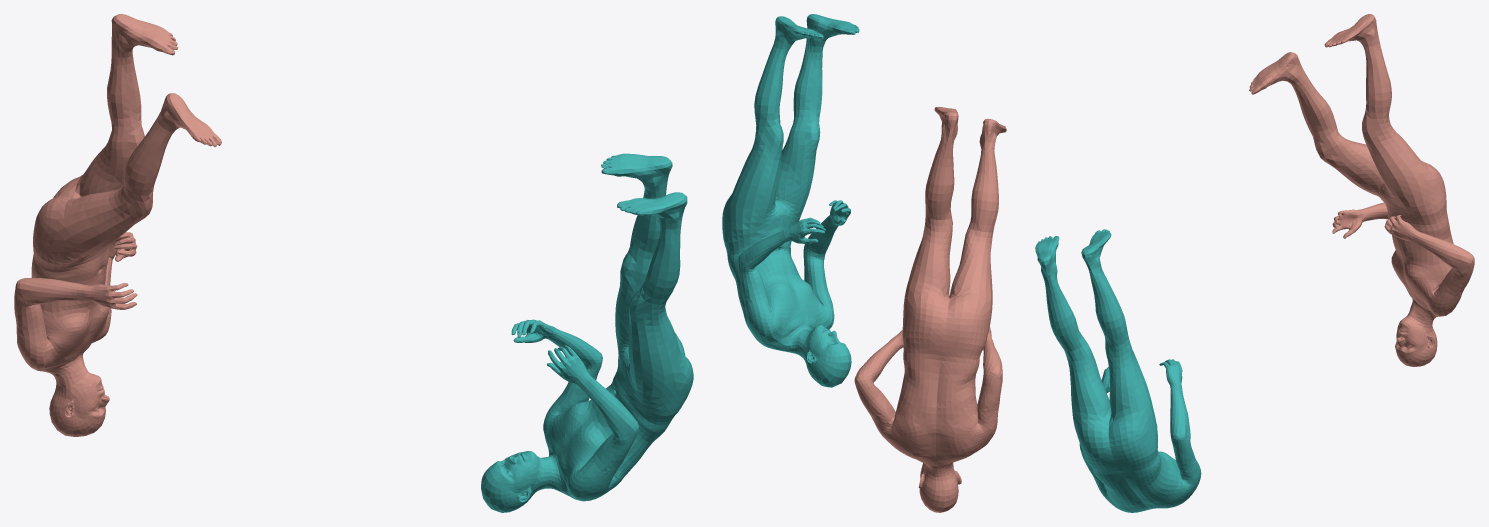
Rendered from all_people_native_world.glb.
3 renders of one model, left to right at view 1: azimuth 30°, elevation 25°; view 2: azimuth 150°, elevation 25°; view 3: azimuth 270°, elevation 25°, orthographic. The views are drawn at different scales.
Visible parts, largest first — view 1: persistent_id_1_slot_1, persistent_id_0_slot_0; view 2: persistent_id_0_slot_0, persistent_id_1_slot_1; view 3: persistent_id_0_slot_0, persistent_id_1_slot_1.
Part boxes in pixels (x1,y1,x2,y2): persistent_id_1_slot_1: (481, 153, 693, 512); persistent_id_0_slot_0: (14, 14, 221, 436); persistent_id_0_slot_0: (854, 106, 1006, 512); persistent_id_1_slot_1: (722, 14, 859, 387); persistent_id_0_slot_0: (1249, 14, 1474, 366); persistent_id_1_slot_1: (1035, 229, 1201, 512).
Size of the model in its own units: 2.06 by 1.89 by 1.96.
